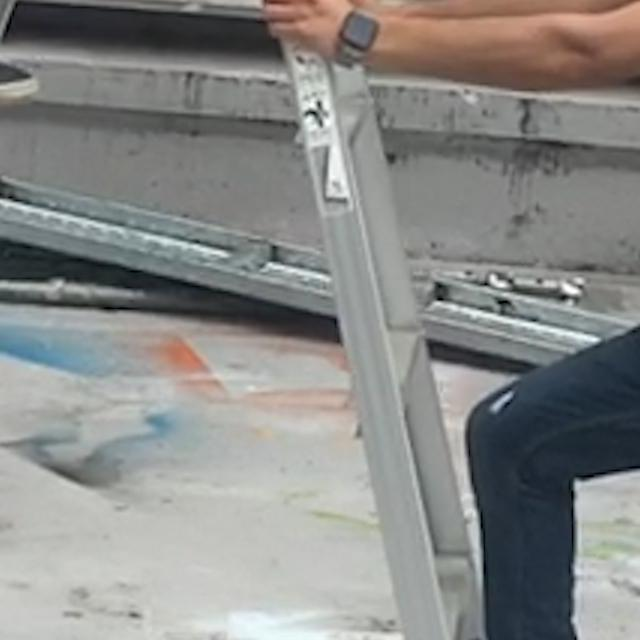Ladder: (0, 0, 575, 640)
Person: (258, 0, 640, 640)
